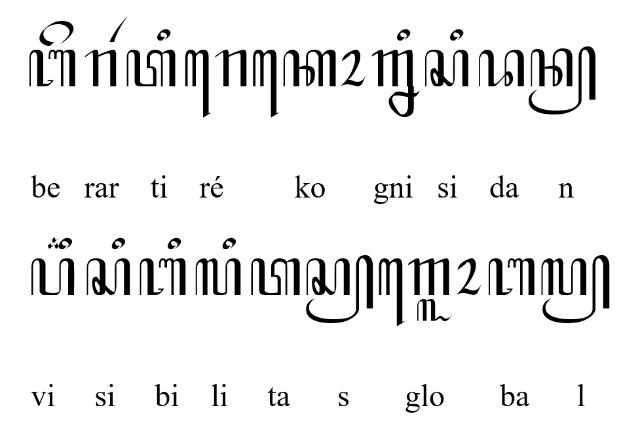-l: (540, 254, 612, 324)
-n: (529, 46, 597, 116)
-s: (304, 254, 374, 324)
_l: (416, 299, 454, 323)
_r1: (109, 18, 128, 42)
alt: (48, 236, 62, 249)
b: (29, 48, 77, 88), (488, 259, 536, 297), (140, 258, 187, 296)
d: (478, 48, 526, 88)
e: (38, 20, 74, 46)
e1: (252, 48, 280, 118), (378, 257, 404, 327), (185, 50, 211, 118)
g: (408, 259, 450, 298)
gn: (372, 48, 420, 118)
i: (222, 236, 236, 252), (396, 28, 410, 42), (449, 28, 463, 42), (168, 237, 182, 251), (59, 236, 72, 249), (157, 28, 171, 40), (111, 238, 125, 250)
k: (282, 48, 338, 88)
l: (194, 258, 242, 296)
o: (454, 258, 482, 296), (340, 48, 366, 88)
p: (30, 258, 76, 296)
r: (85, 49, 117, 87), (215, 49, 247, 87)
s: (424, 50, 470, 88), (86, 258, 130, 296)
t: (250, 256, 302, 296), (125, 50, 177, 88)
